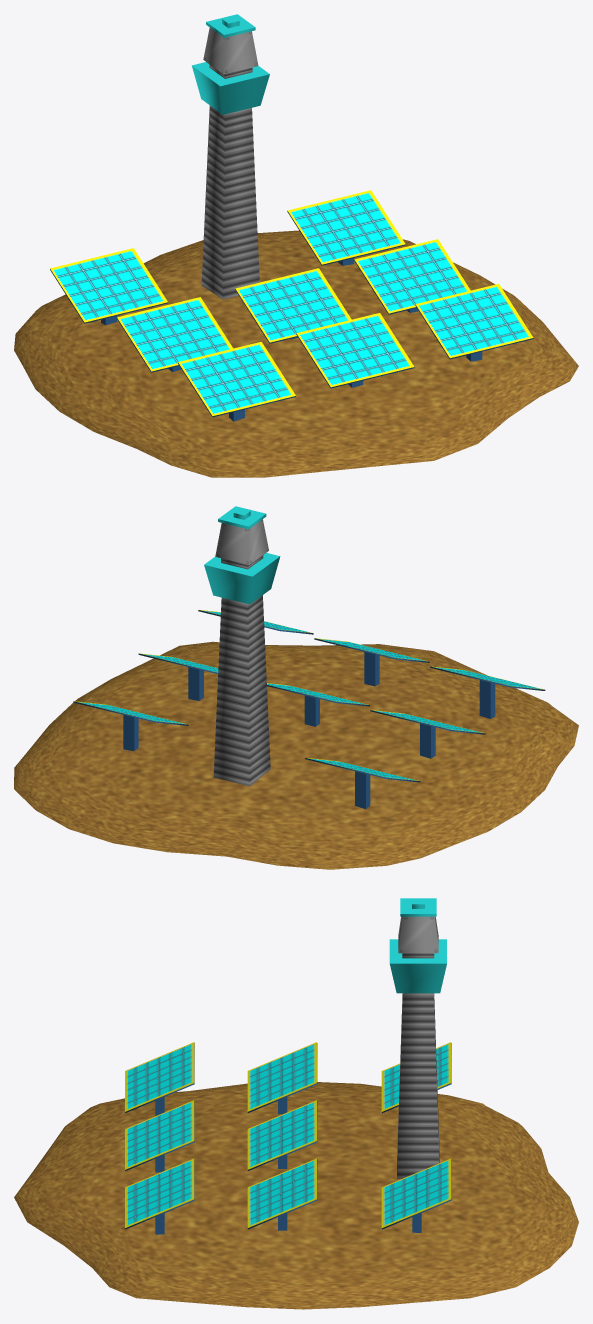
File: SolarFarm.FBX
3 views of the same model, one above another, from view 1: azimuth 30°, elevation 25°; view 2: azimuth 150°, elevation 25°; view 3: azimuth 270°, elevation 25° (orthographic). The views are drawn at different scales.
Parts seen in each view (by area): view 1: Sphere001, Box002, Box012, Box016, Box020, Box022, Box015, Box017, Box019, Box018; view 2: Sphere001, Box002, Box012, Box020, Box022, Box017, Box015, Box018, Box019; view 3: Sphere001, Box002, Box022, Box019, Box016, Box017, Box018, Box012, Box015, Box020.
Part boxes in pixels (box(x1,y1,x2,y2)): Sphere001: box(14, 230, 578, 477); Box002: box(191, 14, 269, 299); Box012: box(178, 341, 295, 421); Box016: box(415, 284, 533, 361); Box020: box(50, 248, 168, 325); Box022: box(287, 190, 405, 265); Box015: box(296, 313, 414, 388); Box017: box(116, 297, 233, 372); Box019: box(354, 239, 470, 314); Box018: box(235, 268, 351, 343); Sphere001: box(14, 641, 578, 869); Box002: box(204, 506, 280, 786); Box012: box(430, 666, 545, 718); Box020: box(305, 757, 420, 809); Box022: box(73, 701, 188, 750); Box017: box(370, 710, 485, 758); Box015: box(314, 638, 429, 686); Box018: box(267, 683, 370, 726); Box019: box(138, 653, 218, 700); Sphere001: box(14, 1082, 578, 1309); Box002: box(389, 898, 446, 1178); Box022: box(381, 1158, 451, 1232); Box019: box(247, 1158, 317, 1230); Box016: box(125, 1158, 194, 1234); Box017: box(247, 1042, 317, 1114); Box018: box(247, 1100, 317, 1170); Box012: box(125, 1042, 194, 1115); Box015: box(125, 1100, 194, 1172); Box020: box(381, 1042, 451, 1113).
Size of the model in its own units: 196 by 120 by 208.
